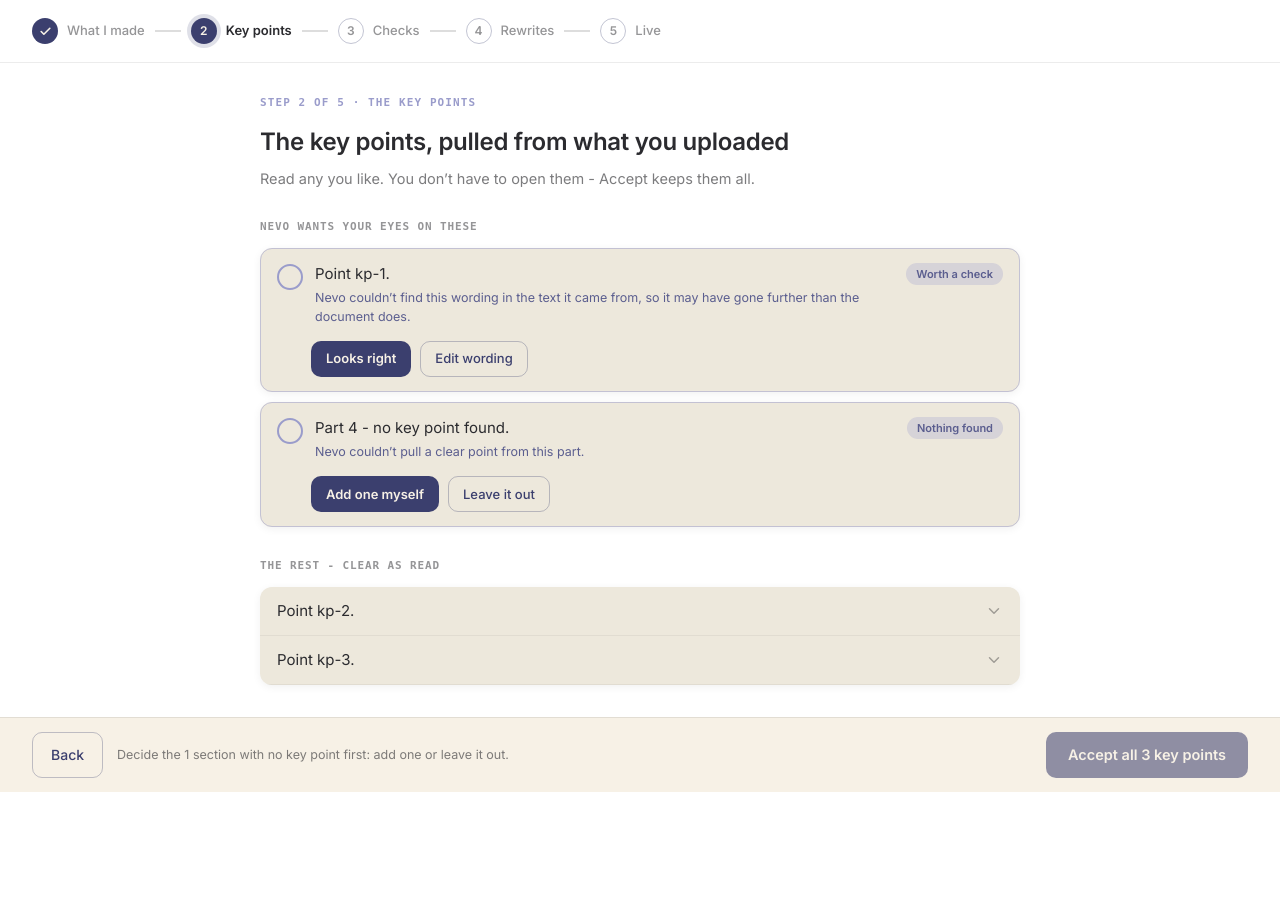
Test case: the key points › writes 'Add one myself' back in the teacher's words
Expected: the navigation bar named "Lesson review steps" is shown, [0,0,1279,63]
Click the button "Add one myself" at (375, 494), box [311,476,439,512]
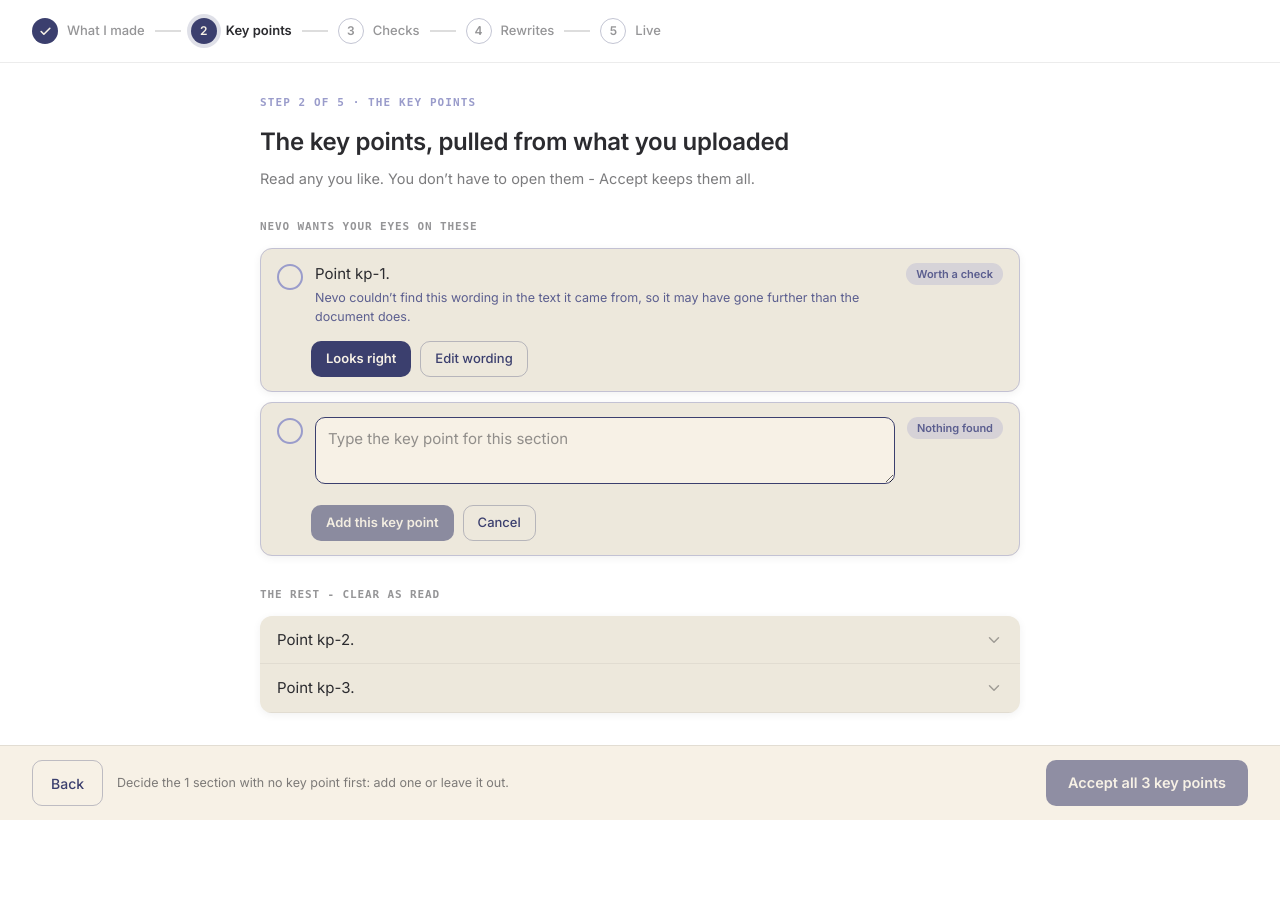
Type "  Guard cells open the pores.  " into the text box named "Key point for Part 4" at (605, 450), box [315,417,895,484]
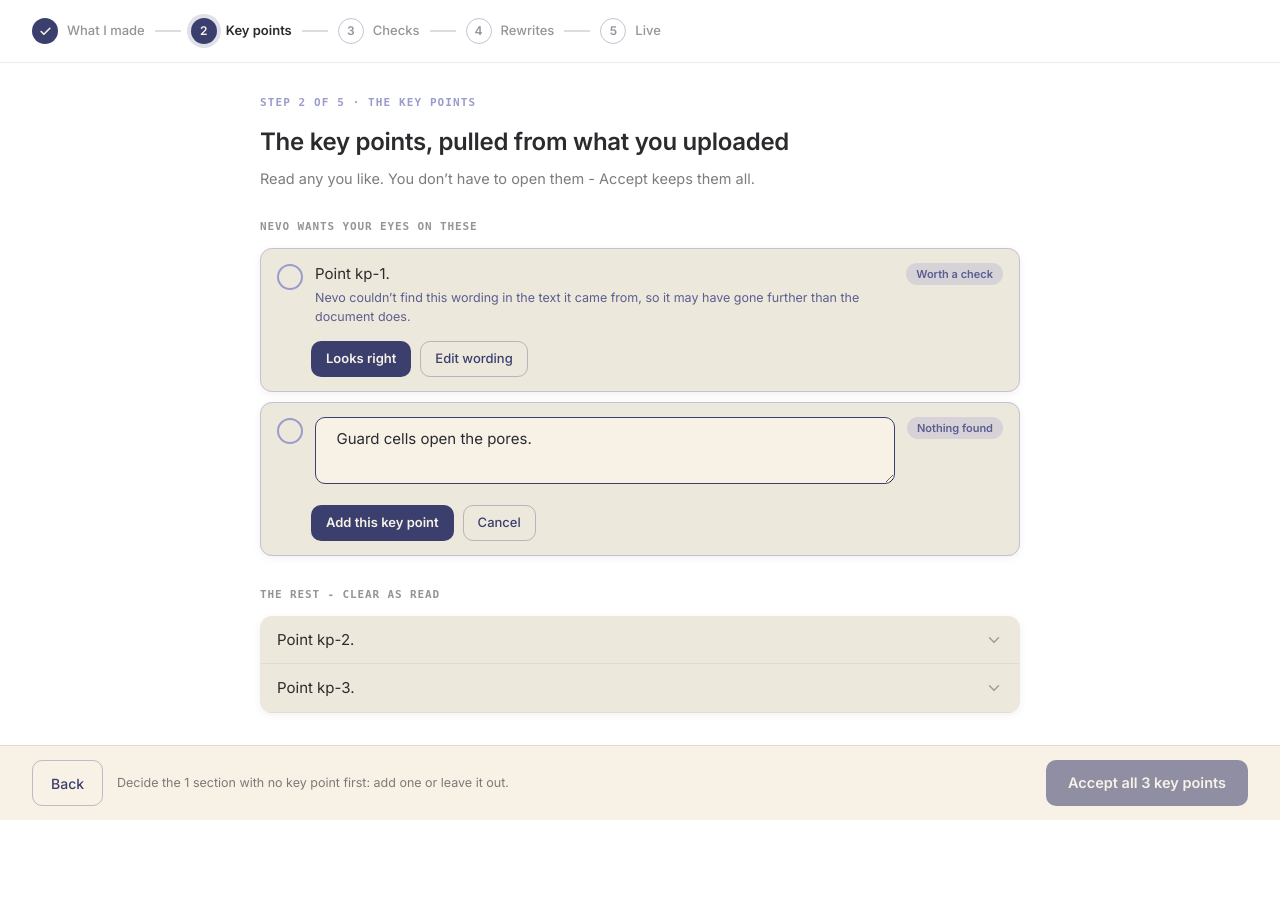
Click the button "Add this key point" at (382, 523), box [311,505,454,541]
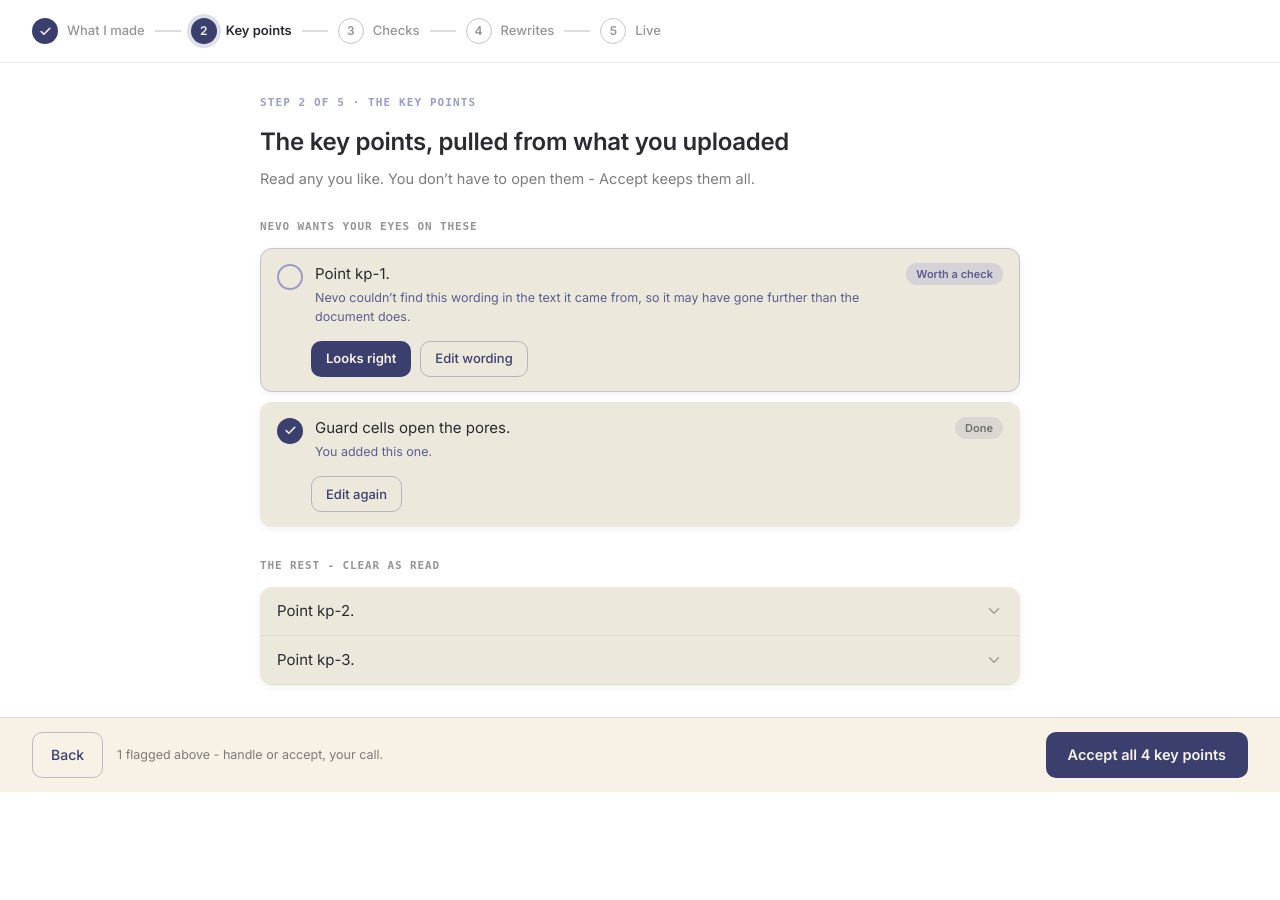
Now the text "You added this one." is shown, box [315,444,432,459]
Now the button "Edit again" is shown, box [311,476,402,512]
